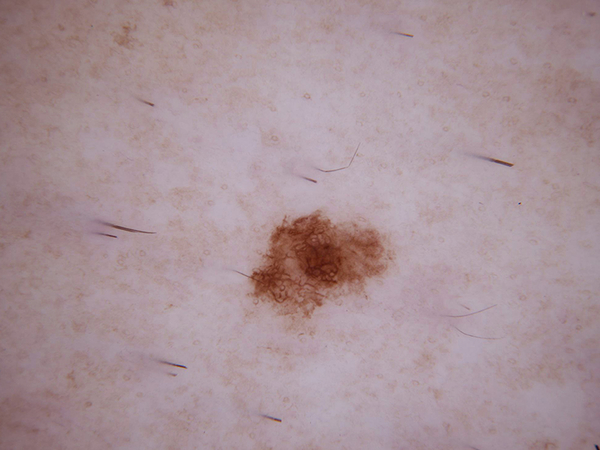Detected Lesion: (249, 206, 401, 322)
